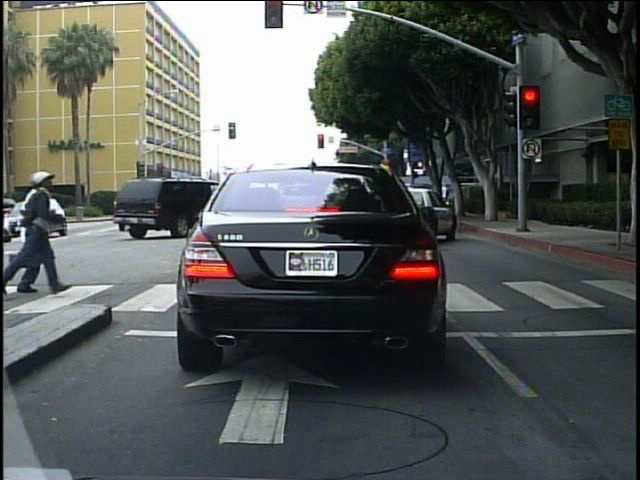person: (6, 170, 58, 294), (437, 179, 452, 215)
